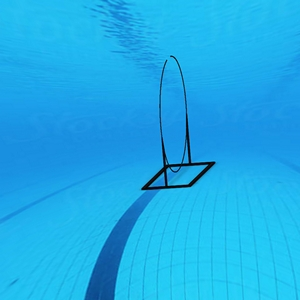circle: (141, 53, 218, 196)
